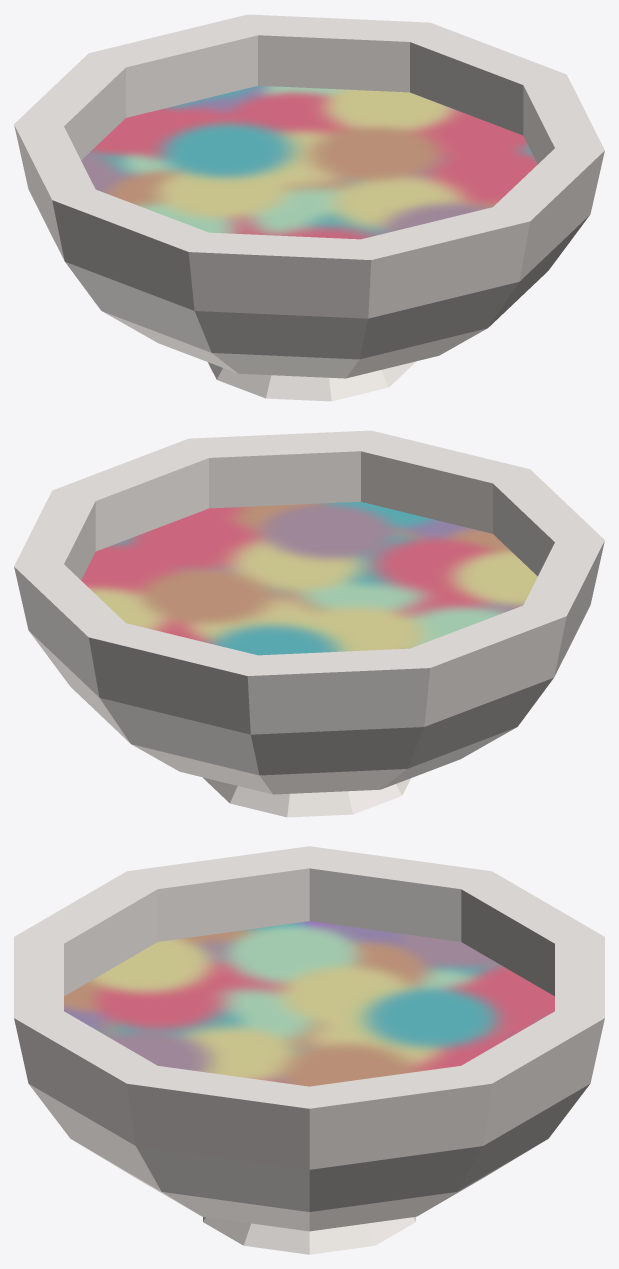
Rendered from loops.fbx.
3 views of the same model, one above another, from view 1: azimuth 30°, elevation 25°; view 2: azimuth 150°, elevation 25°; view 3: azimuth 270°, elevation 25° (orthographic). The views are drawn at different scales.
Visible parts, largest first — view 1: cereal; view 2: cereal; view 3: cereal.
Boxes of the visible parts, box(x1,y1,x2,y2) form: cereal: box(14, 14, 604, 401); cereal: box(14, 430, 604, 817); cereal: box(14, 846, 604, 1254).
Bounding box in the file's own units: 1.92 × 0.7835 × 1.83.
